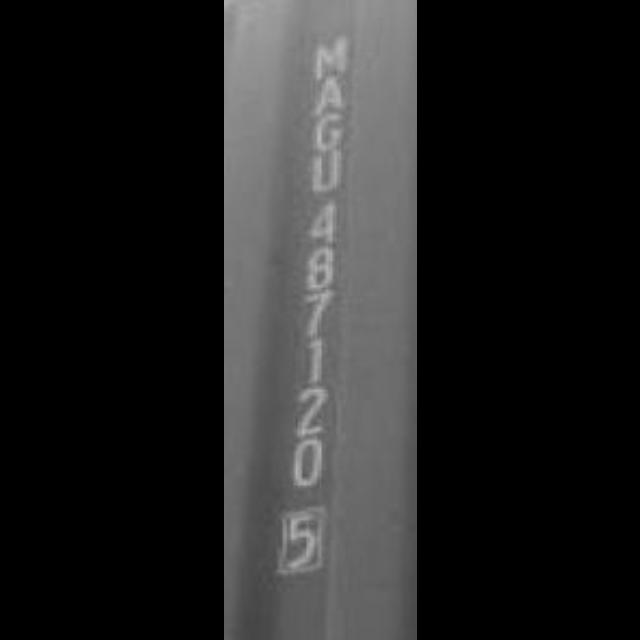0: (282, 432, 334, 493)
1: (293, 334, 339, 386)
2: (287, 379, 335, 436)
4: (302, 200, 343, 250)
5: (274, 502, 328, 580)
7: (295, 288, 341, 338)
8: (296, 245, 344, 292)
a: (302, 74, 358, 118)
g: (305, 110, 351, 158)
m: (306, 24, 356, 84)
u: (302, 152, 348, 198)
